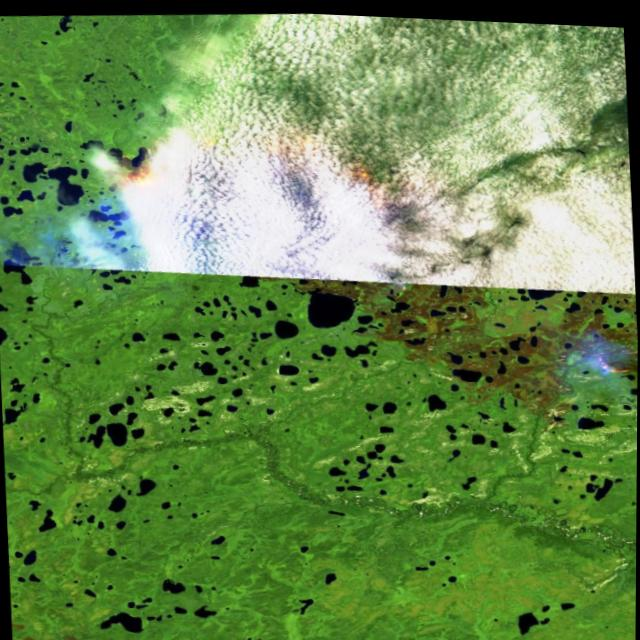fire: (79, 84, 640, 397)
